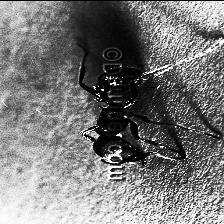Toxin: (132, 55, 208, 174), (69, 53, 106, 158)
